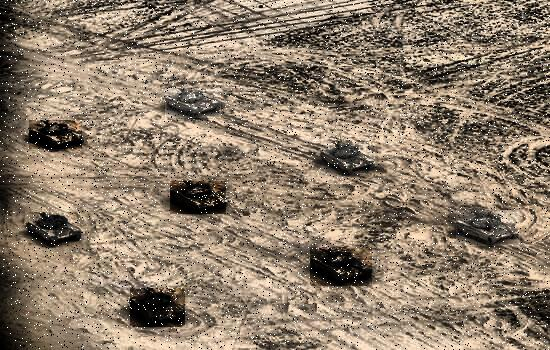military-vehicle: (311, 247, 373, 286), (457, 211, 521, 247), (130, 288, 185, 327), (171, 181, 227, 214), (322, 142, 377, 174), (28, 213, 81, 245), (166, 89, 222, 119), (29, 121, 82, 150)
